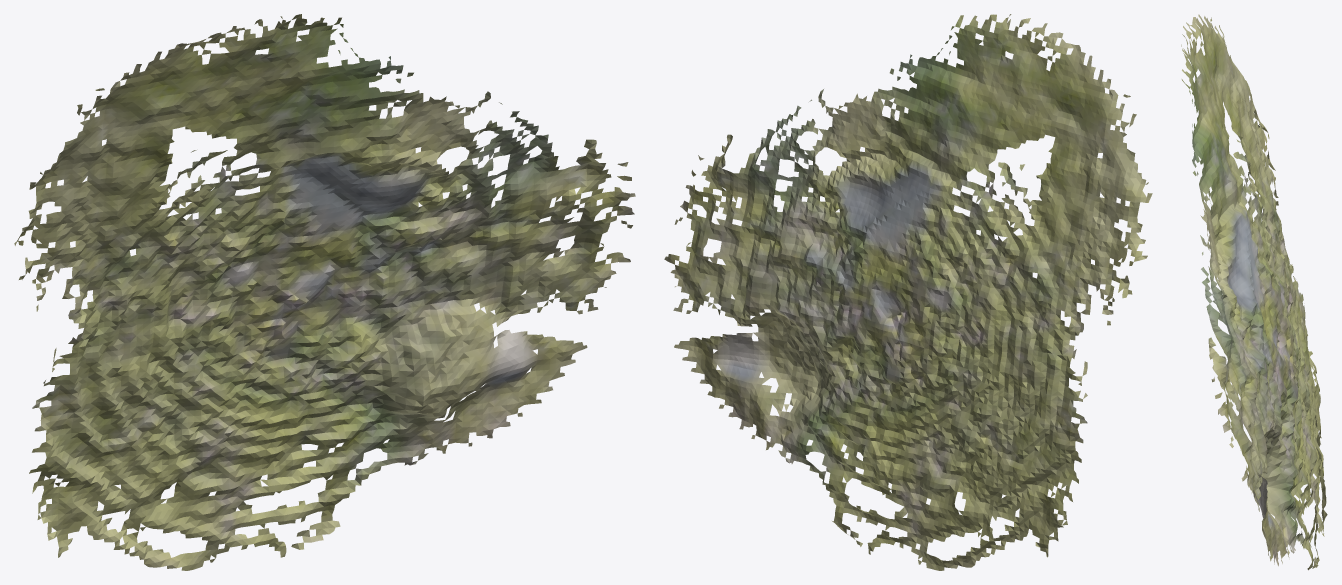
The model's file is terrain-lod.glb.
3 renders of one model, left to right at view 1: azimuth 30°, elevation 25°; view 2: azimuth 150°, elevation 25°; view 3: azimuth 270°, elevation 25°, orthographic. The views are drawn at different scales.
Parts seen in each view (by area): view 1: Terrain; view 2: Terrain; view 3: Terrain.
Part boxes in pixels (x1=…): Terrain: x1=14, y1=14, x2=635, y2=570; Terrain: x1=664, y1=14, x2=1152, y2=570; Terrain: x1=1181, y1=14, x2=1327, y2=570.
Bounding box in the file's own units: 25.05 × 24.72 × 6.67.
